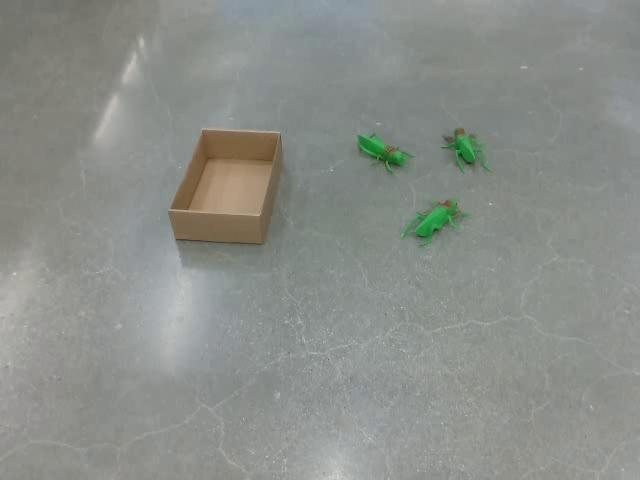box: (166, 127, 282, 244)
grasshopper: (400, 197, 463, 247), (440, 126, 492, 174), (356, 131, 415, 173)
